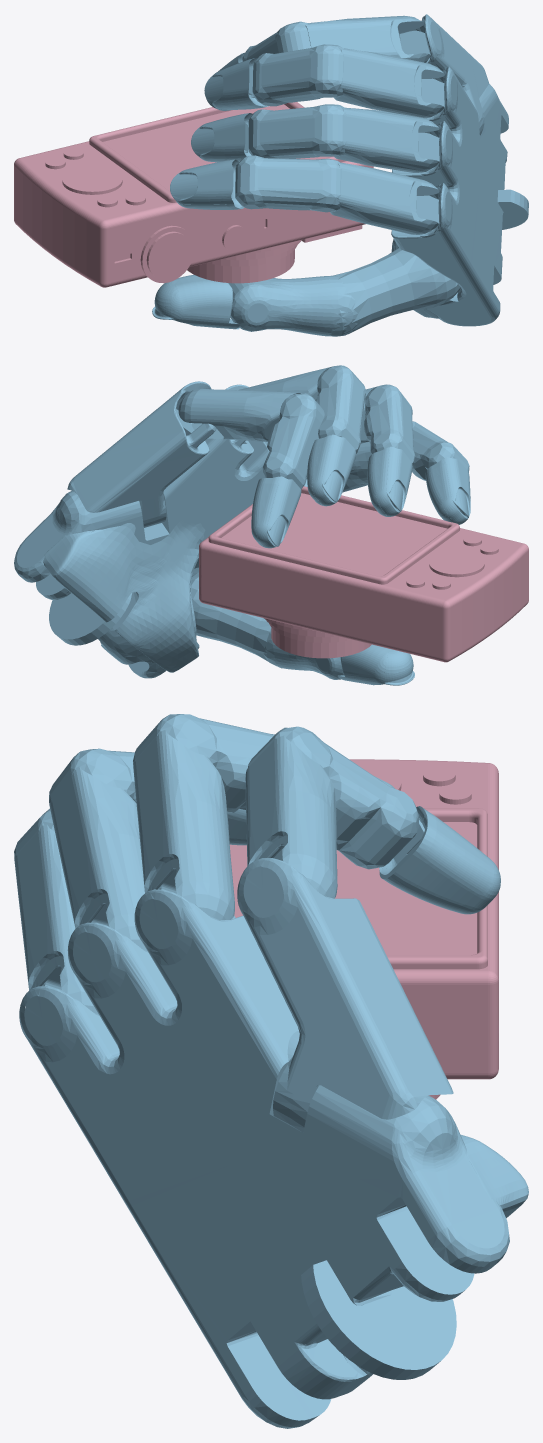
The picture shows the model from 3 angles, top to bottom: view 1: azimuth 30°, elevation 25°; view 2: azimuth 150°, elevation 25°; view 3: azimuth 270°, elevation 25°; orthographic projection. The views are drawn at different scales.
Visible parts, largest first — view 1: world; view 2: world; view 3: world.
Boxes of the visible parts, left/top/right/bottom form: world: left=14, top=14, right=528, bottom=336; world: left=14, top=365, right=528, bottom=685; world: left=14, top=714, right=528, bottom=1428.
Bounding box in the file's own units: 0.2004 × 0.1386 × 0.1139.
